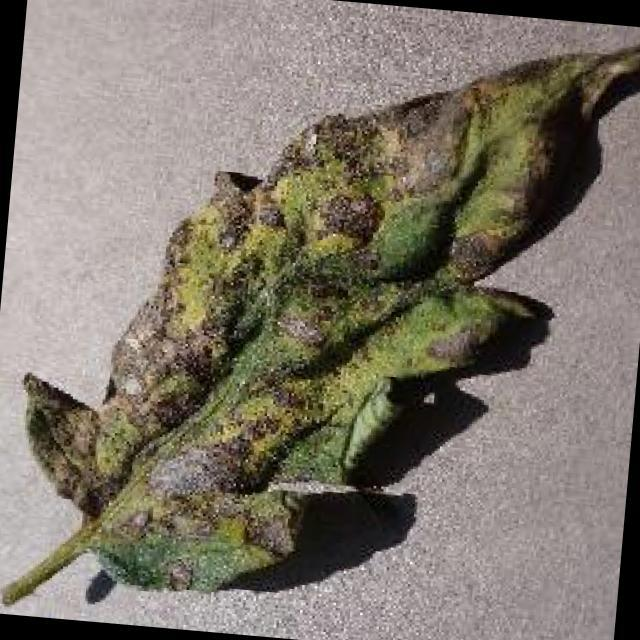Tomato Early blight leaf: (7, 0, 640, 621)
